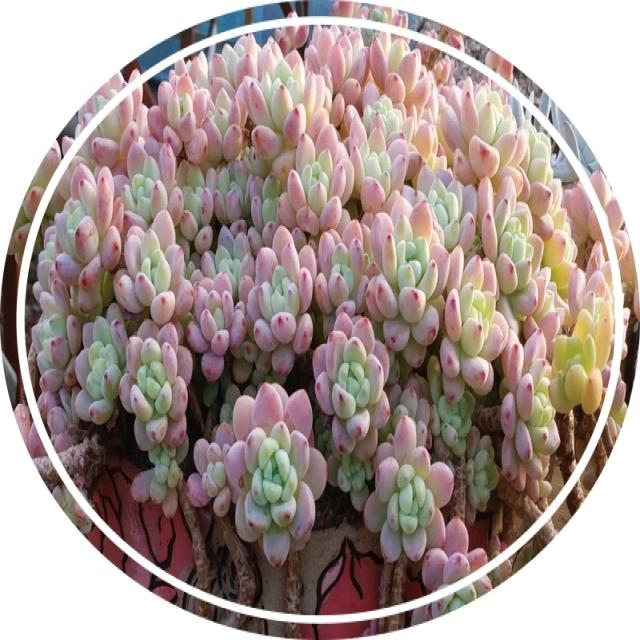LumiRose: (225, 383, 328, 566), (440, 77, 552, 219), (314, 312, 390, 510), (364, 415, 454, 563), (366, 196, 439, 366), (31, 210, 81, 451), (478, 175, 552, 331), (244, 50, 329, 177), (246, 226, 316, 377), (54, 164, 122, 318), (500, 328, 560, 500), (345, 84, 422, 214), (379, 355, 469, 461), (119, 321, 192, 451), (549, 269, 614, 415), (114, 210, 184, 327), (186, 396, 252, 517), (446, 255, 502, 394), (288, 123, 354, 236), (186, 273, 246, 382), (75, 303, 128, 425), (121, 141, 184, 231), (315, 219, 372, 317), (418, 162, 478, 255), (151, 71, 210, 164), (305, 25, 370, 108), (370, 34, 431, 117), (191, 232, 255, 306), (202, 80, 248, 165), (176, 159, 216, 255), (465, 426, 499, 523), (250, 148, 286, 236), (214, 159, 250, 224), (541, 212, 566, 264)
